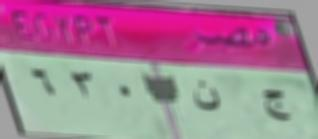0: (116, 78, 132, 108)
3: (69, 65, 96, 104)
6: (28, 64, 56, 106)
jeem: (260, 83, 293, 132)
noon: (190, 75, 222, 123)
